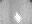person: (14, 12, 21, 22)
